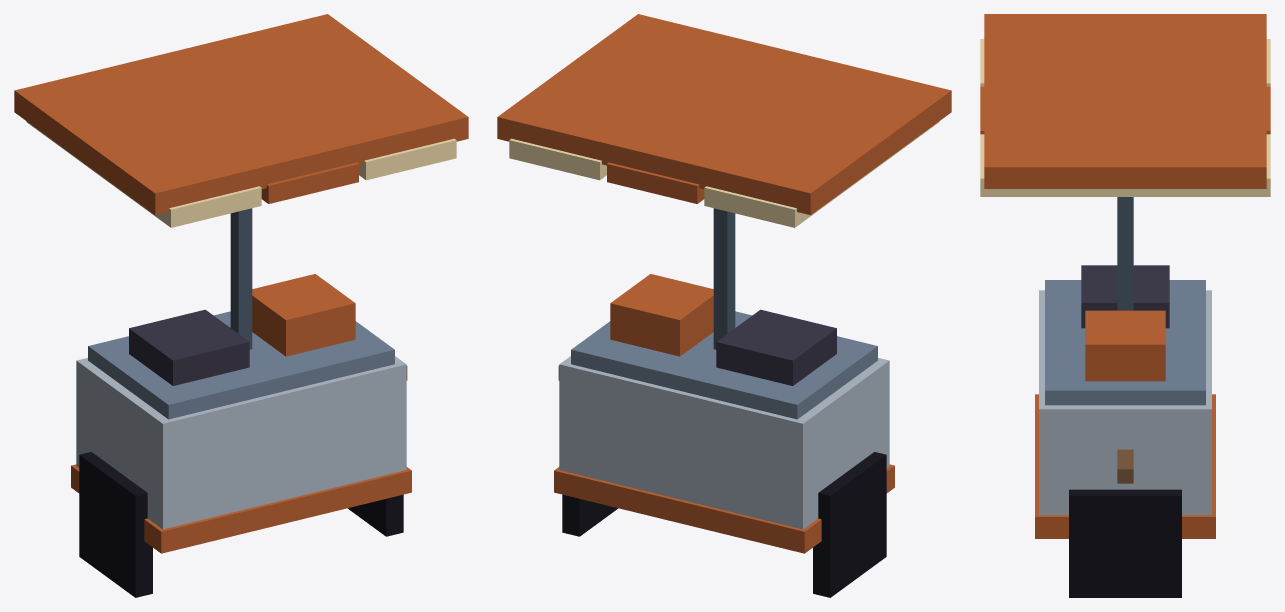
Rendered from hot_dog_cart.obj.
The picture shows the model from 3 angles, left to right: view 1: azimuth 30°, elevation 25°; view 2: azimuth 150°, elevation 25°; view 3: azimuth 270°, elevation 25°; orthographic projection.
Visible parts, largest first — view 1: hot_dog_cart; view 2: hot_dog_cart; view 3: hot_dog_cart.
Part boxes in pixels (left/top/right/bottom): hot_dog_cart: left=14, top=14, right=468, bottom=597; hot_dog_cart: left=497, top=14, right=951, bottom=597; hot_dog_cart: left=980, top=14, right=1270, bottom=597.
Bounding box in the file's own units: 1.83 × 2.42 × 1.44.
